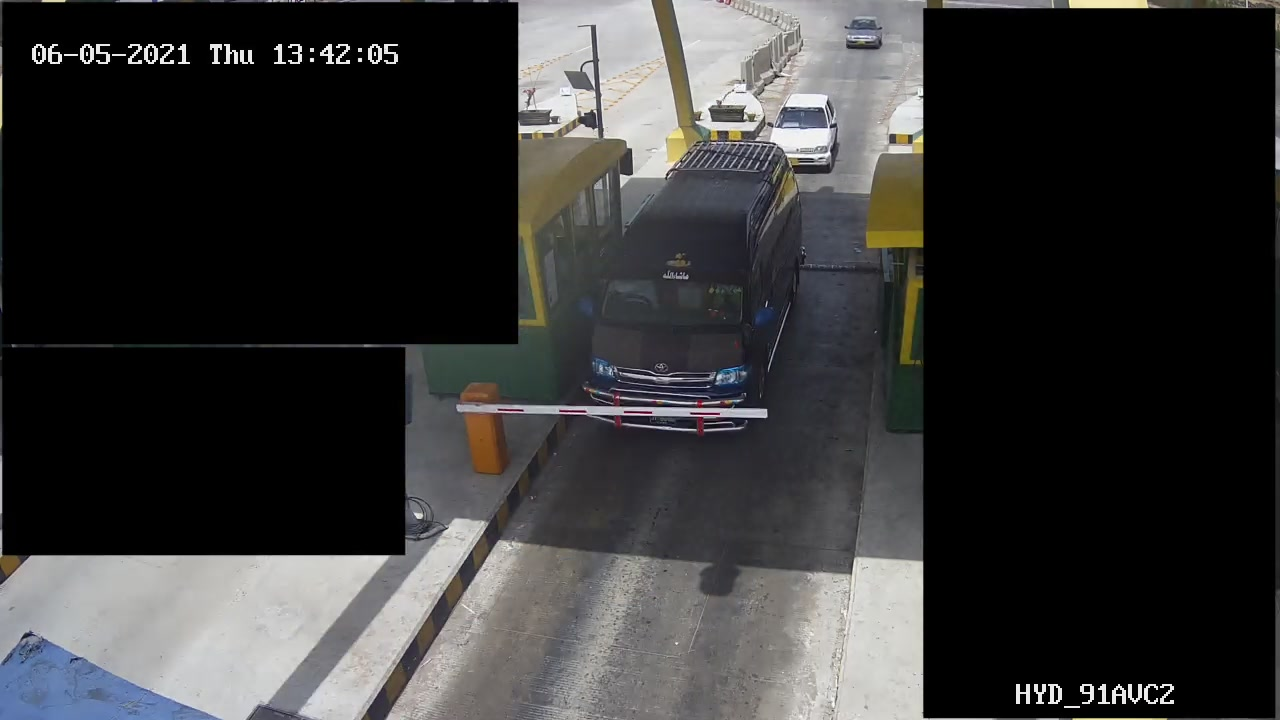F2: (574, 141, 813, 434)
